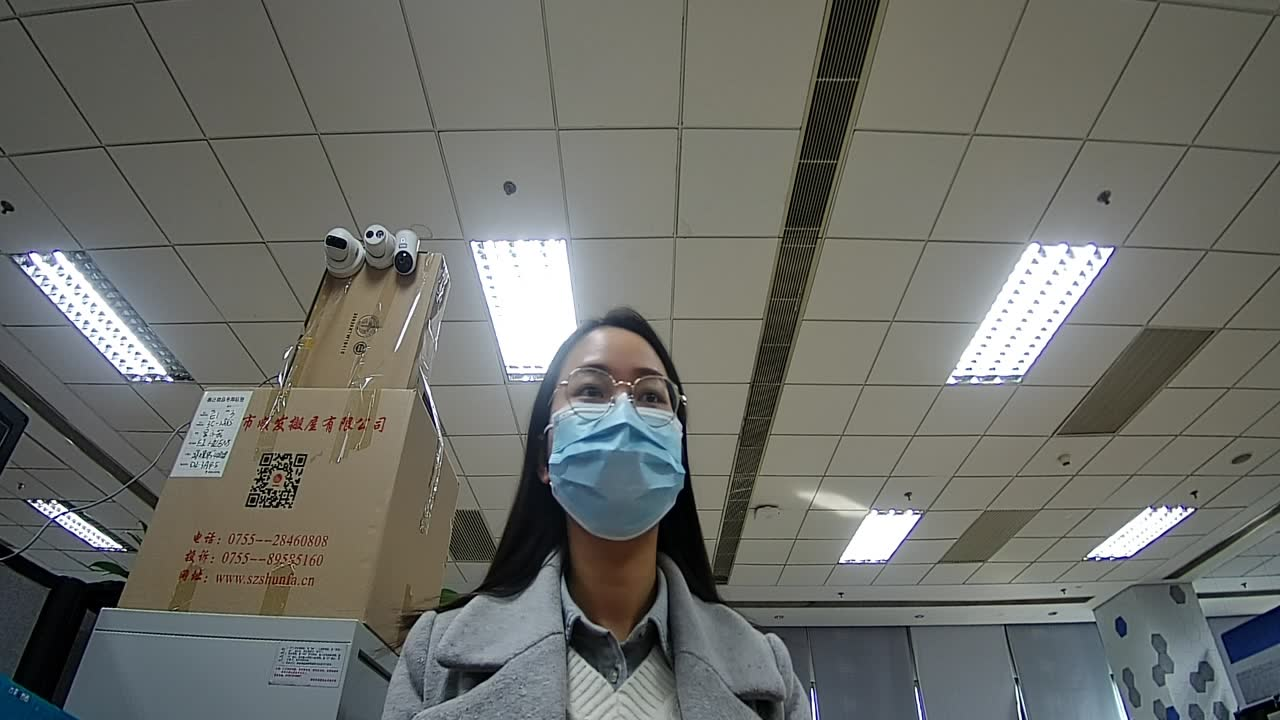face: (534, 312, 704, 539)
mask: (543, 405, 692, 544)
person: (419, 277, 793, 719)
